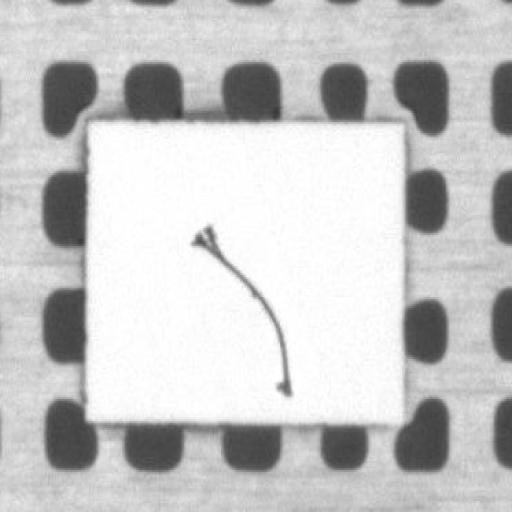DIE_INK: (230, 159, 412, 302)
